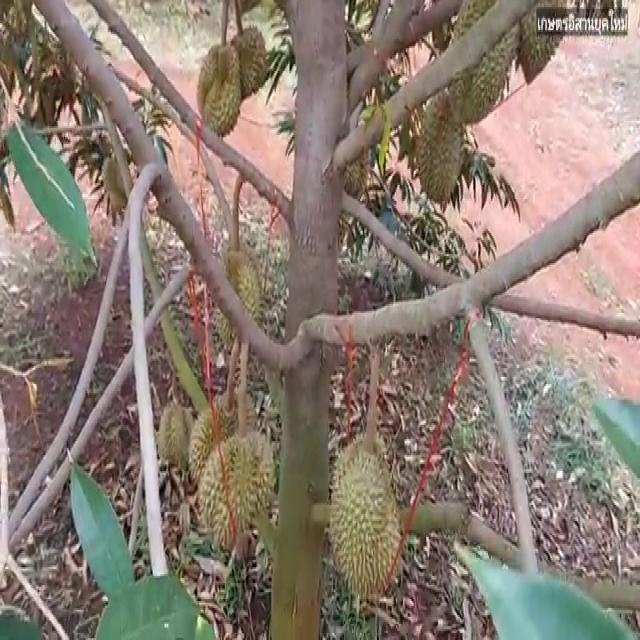durian: (325, 426, 407, 606), (438, 1, 522, 131), (199, 422, 276, 560), (183, 390, 265, 494), (210, 232, 269, 363), (410, 84, 469, 204), (507, 0, 573, 95), (195, 41, 246, 143), (214, 24, 272, 99), (151, 393, 195, 465)
